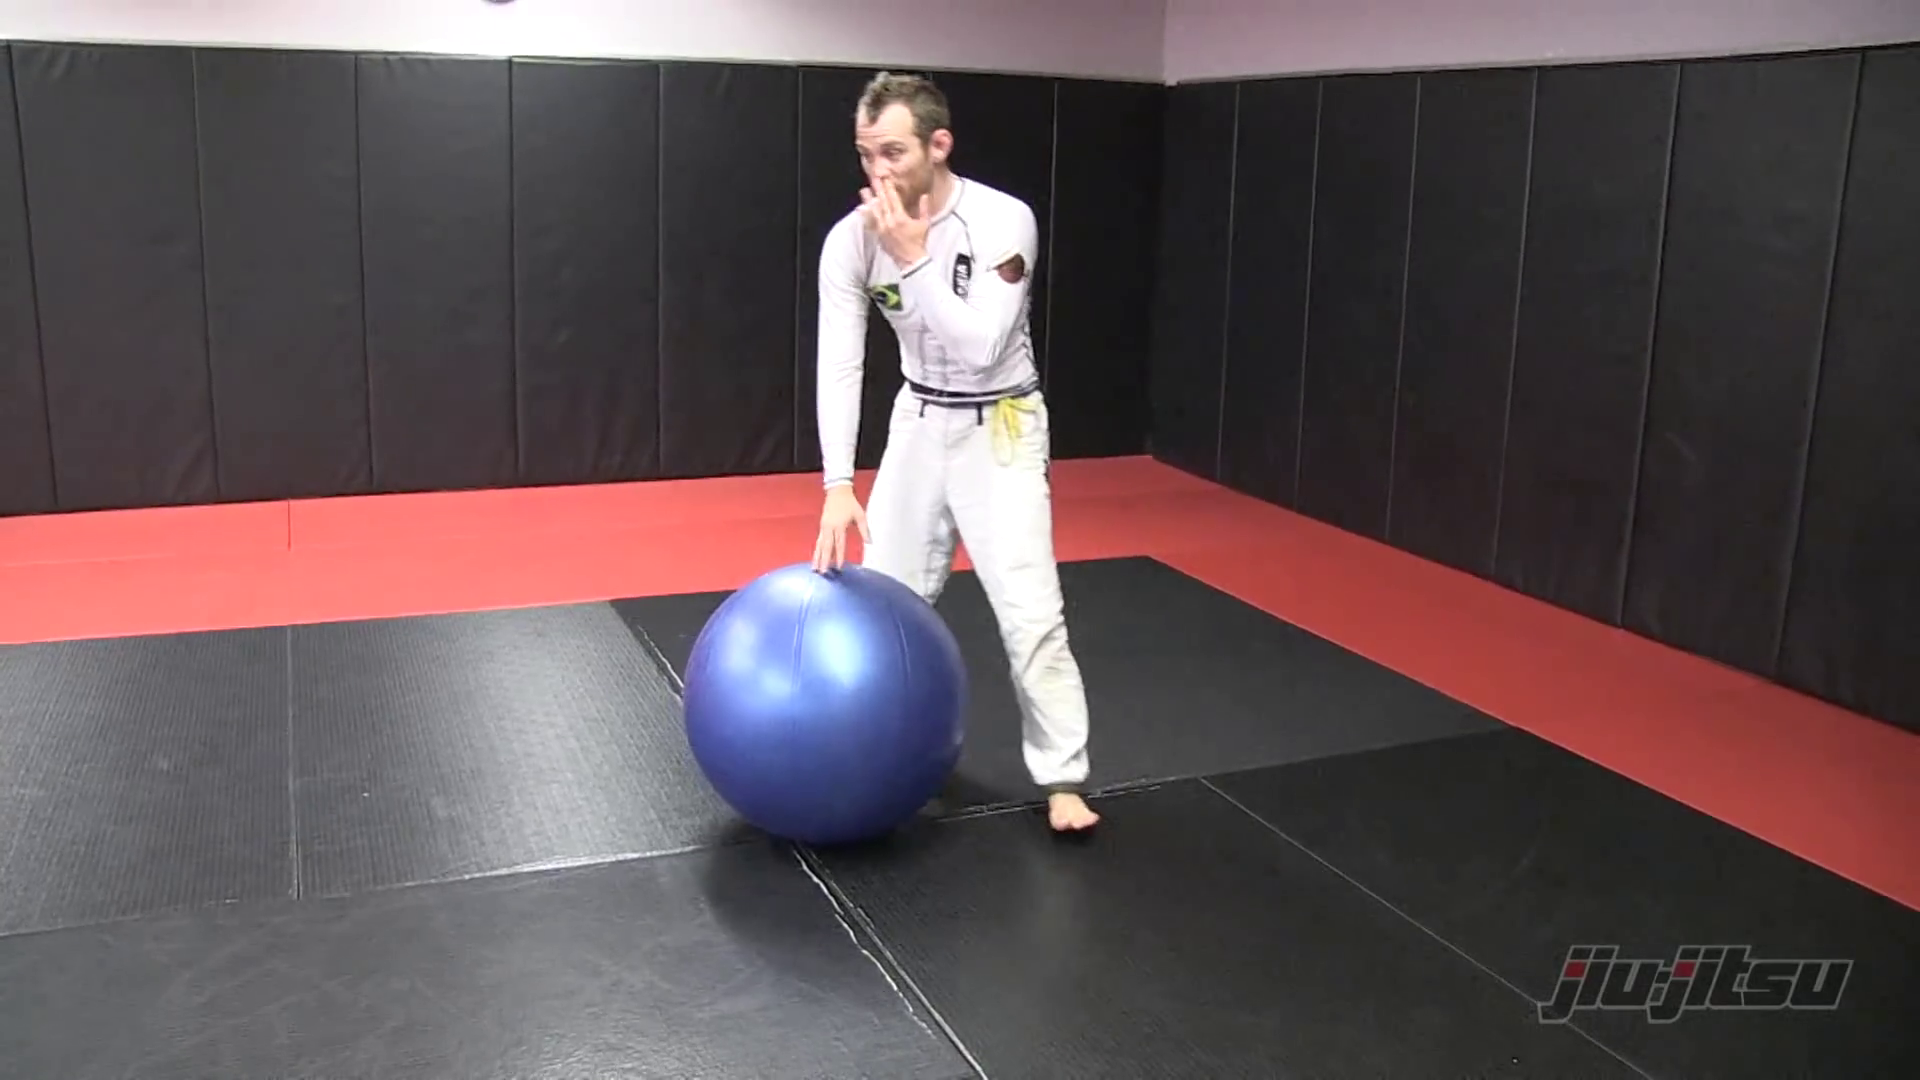yogaball: (678, 560, 978, 847)
